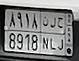1: (24, 11, 31, 50)
8: (7, 11, 16, 50), (30, 13, 39, 52)
9: (14, 12, 24, 49)
J: (55, 16, 64, 50)
L: (47, 15, 57, 52)
N: (41, 16, 49, 49)
